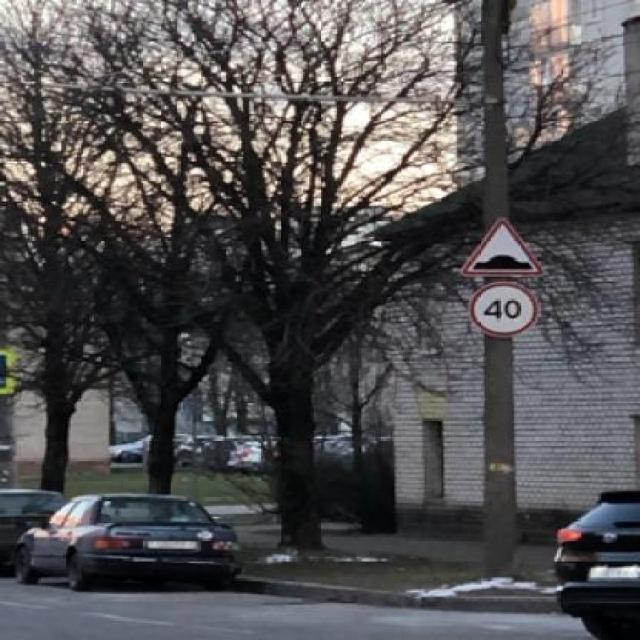forb_speed_over_40: (473, 284, 536, 338)
